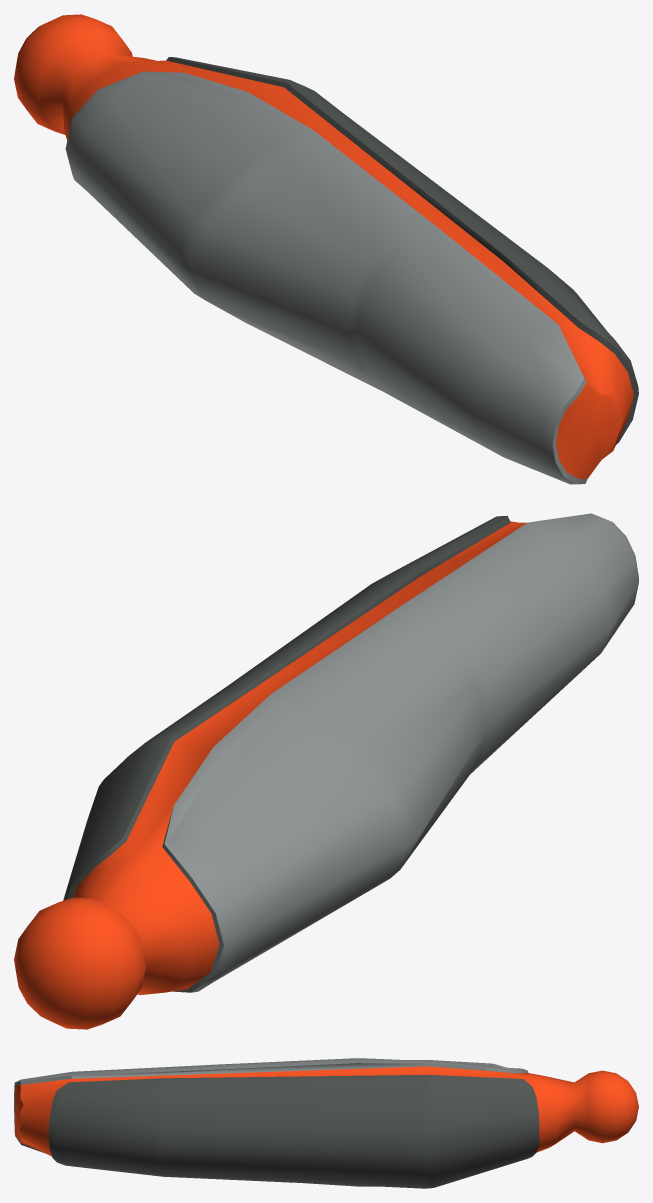
File: xsens_RightUpperArm.dae
The picture shows the model from 3 angles, top to bottom: view 1: azimuth 30°, elevation 25°; view 2: azimuth 150°, elevation 25°; view 3: azimuth 270°, elevation 25°; orthographic projection. The views are drawn at different scales.
Parts seen in each view (by area): view 1: RightUpperArm; view 2: RightUpperArm; view 3: RightUpperArm.
Boxes of the visible parts, x1,y1,x2,y2 form: RightUpperArm: (14, 14, 638, 484); RightUpperArm: (14, 513, 638, 1029); RightUpperArm: (14, 1058, 638, 1188).
Bounding box in the file's own units: 0.0874 × 0.3246 × 0.0679.
